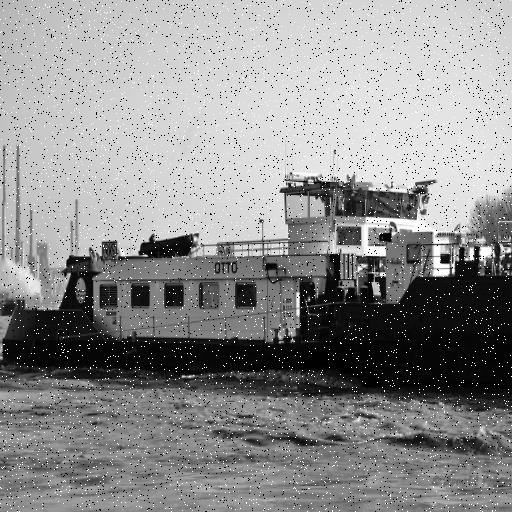tugboat: (1, 175, 449, 384)
